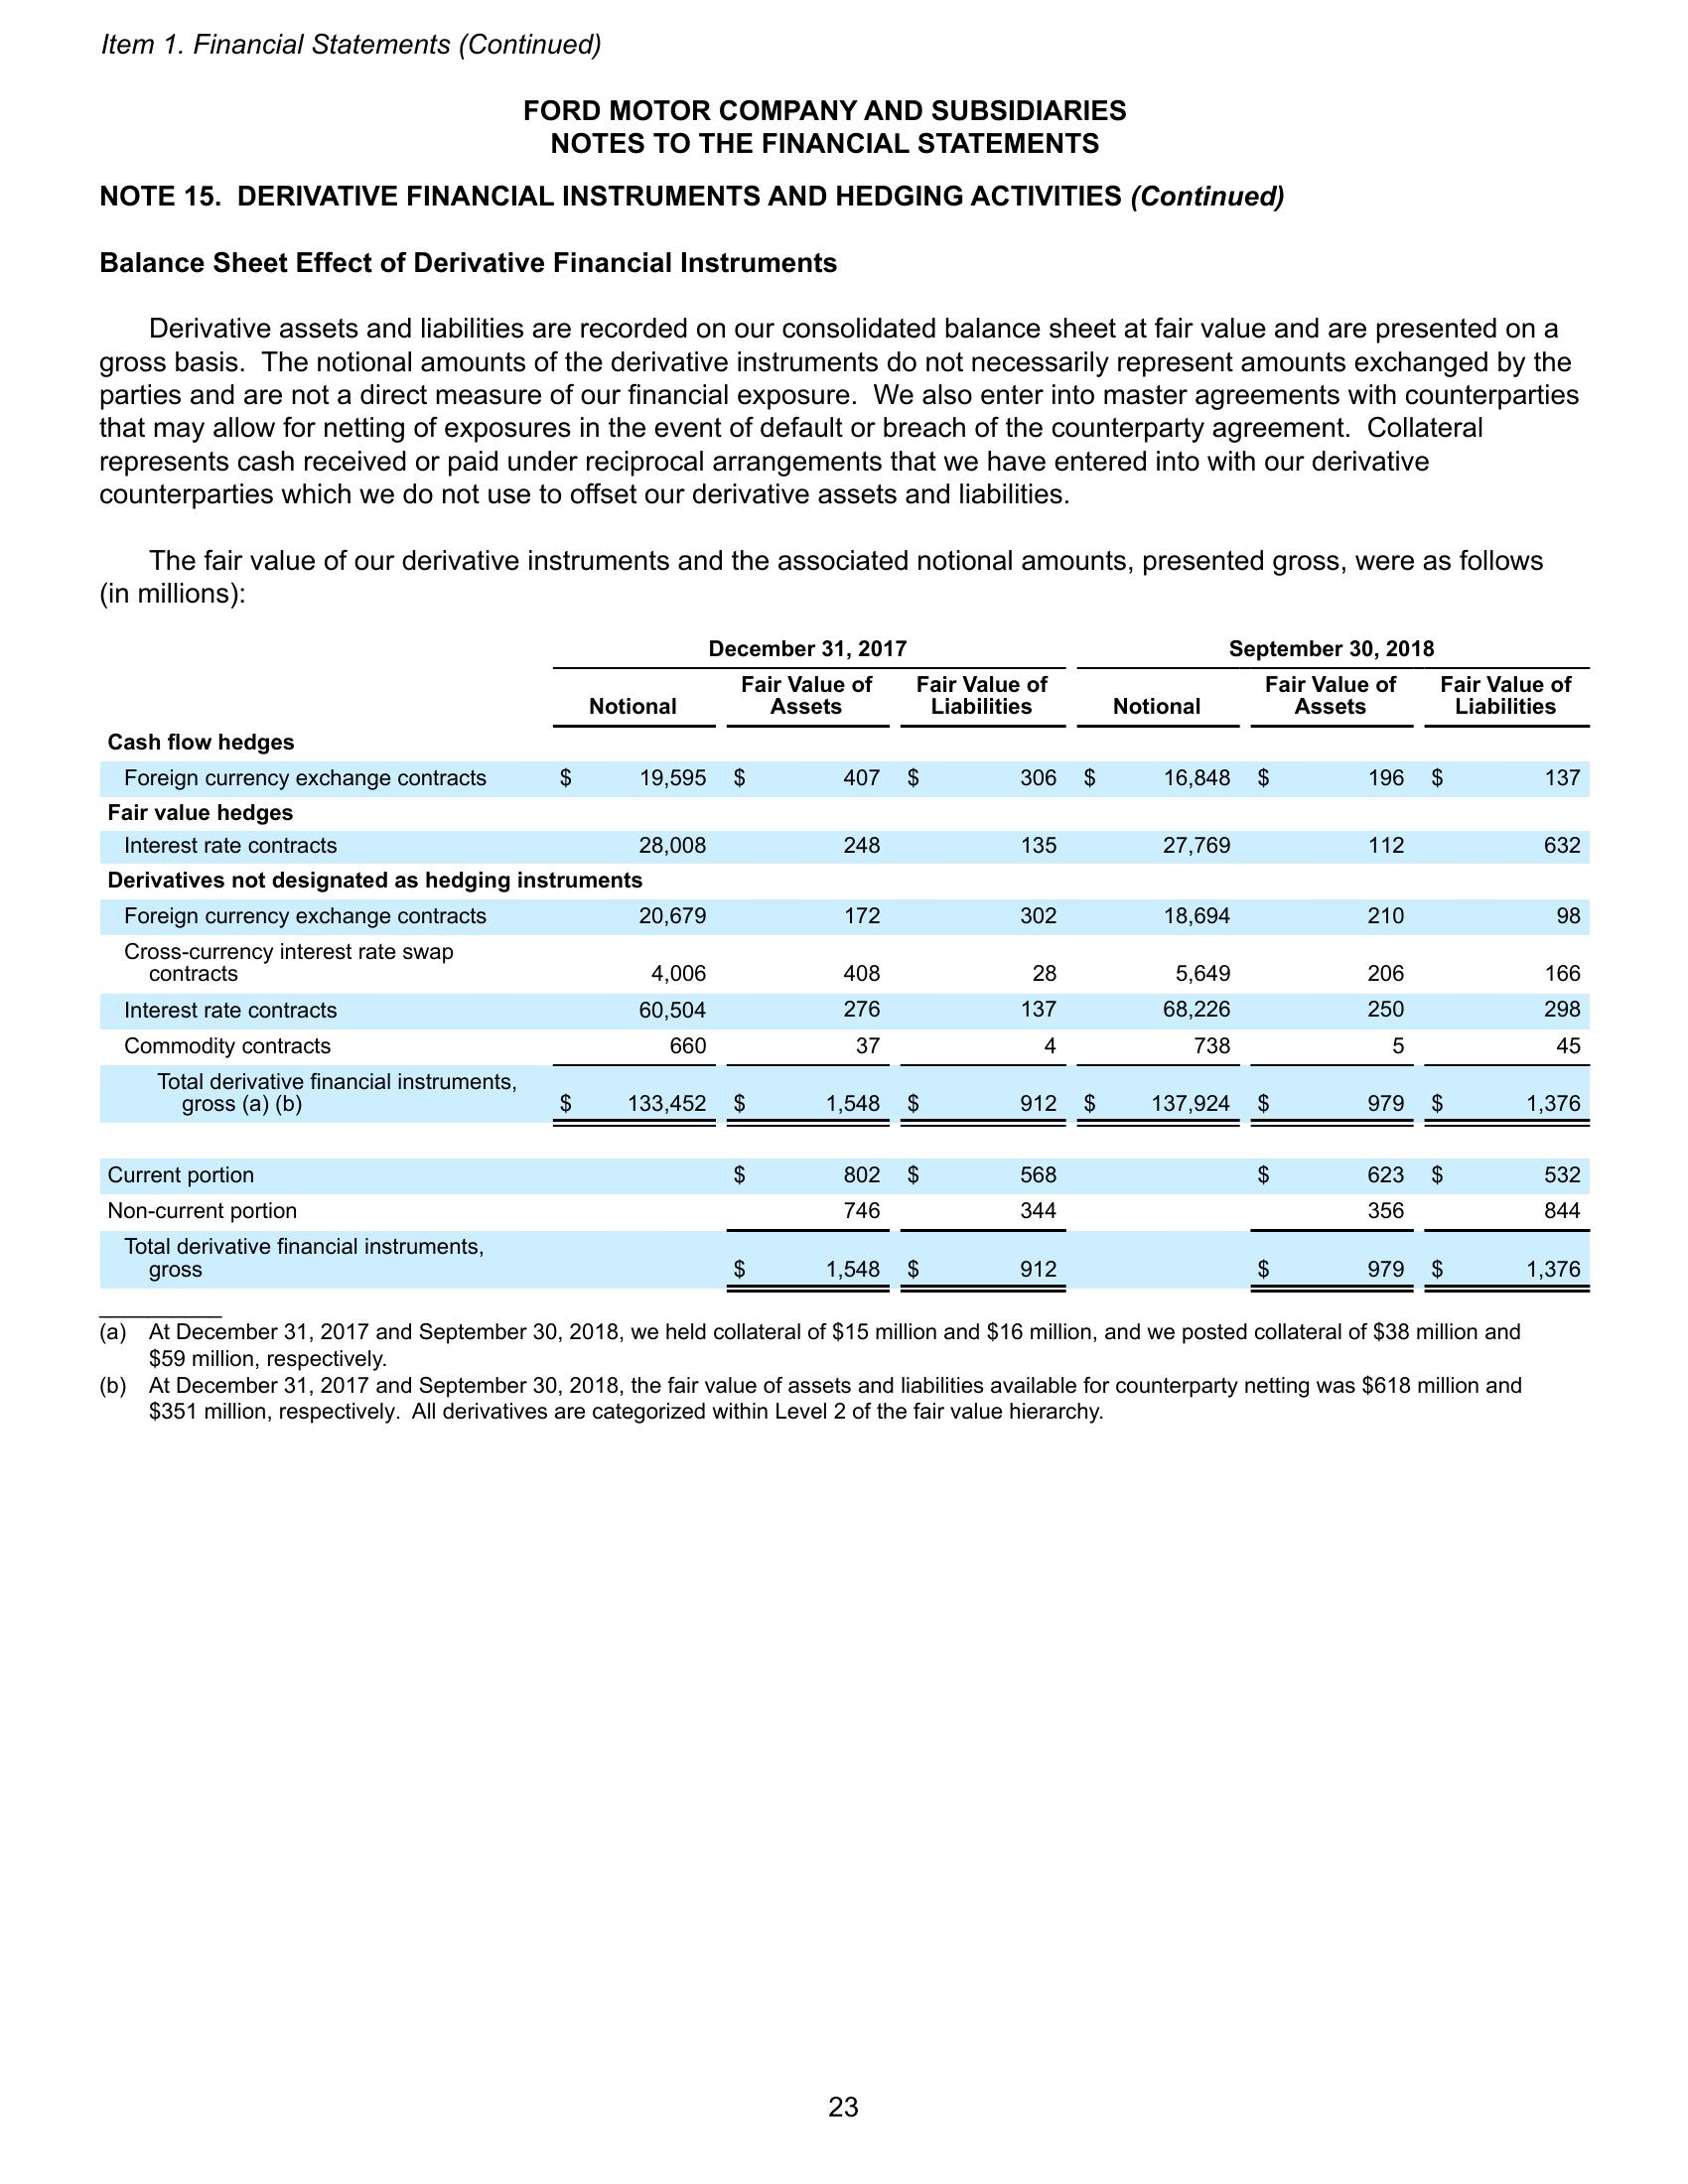table: (94, 638, 1599, 1298)
